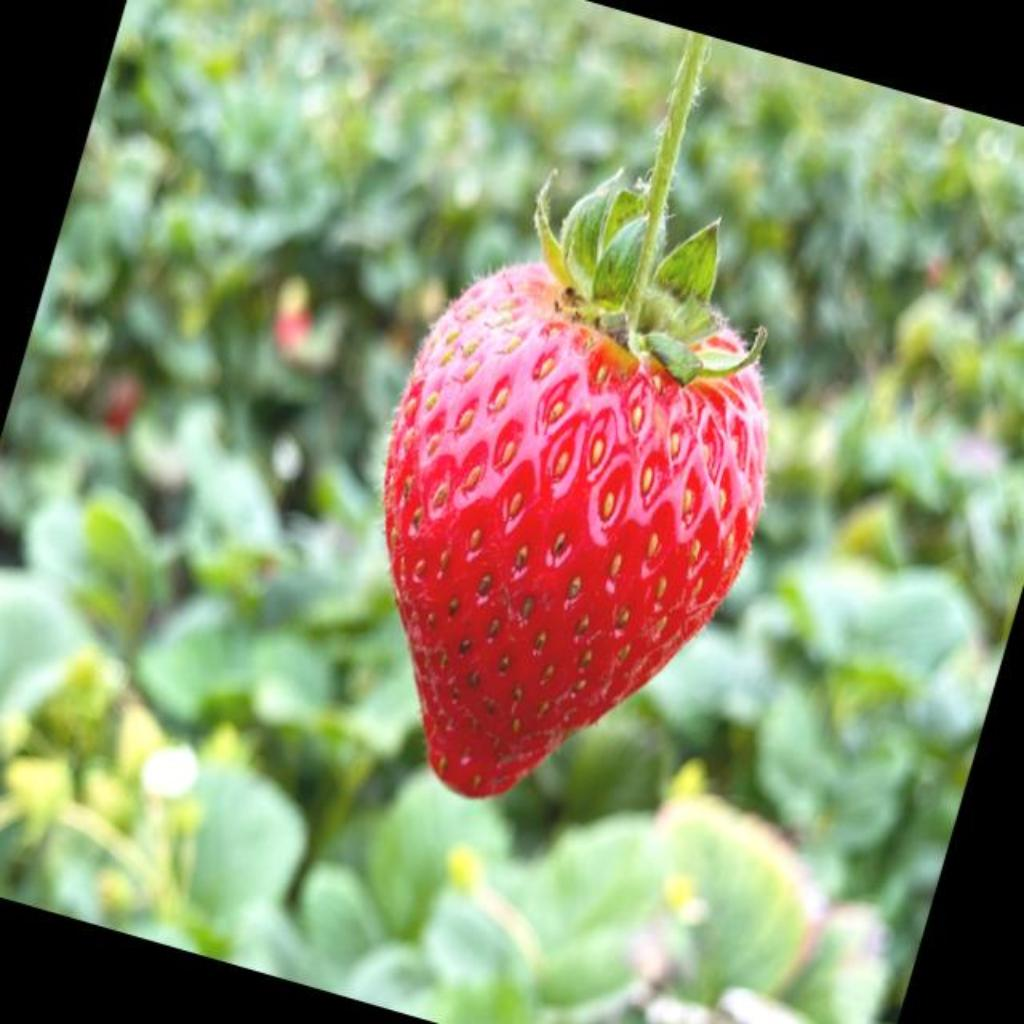strawberry: (384, 36, 766, 795)
